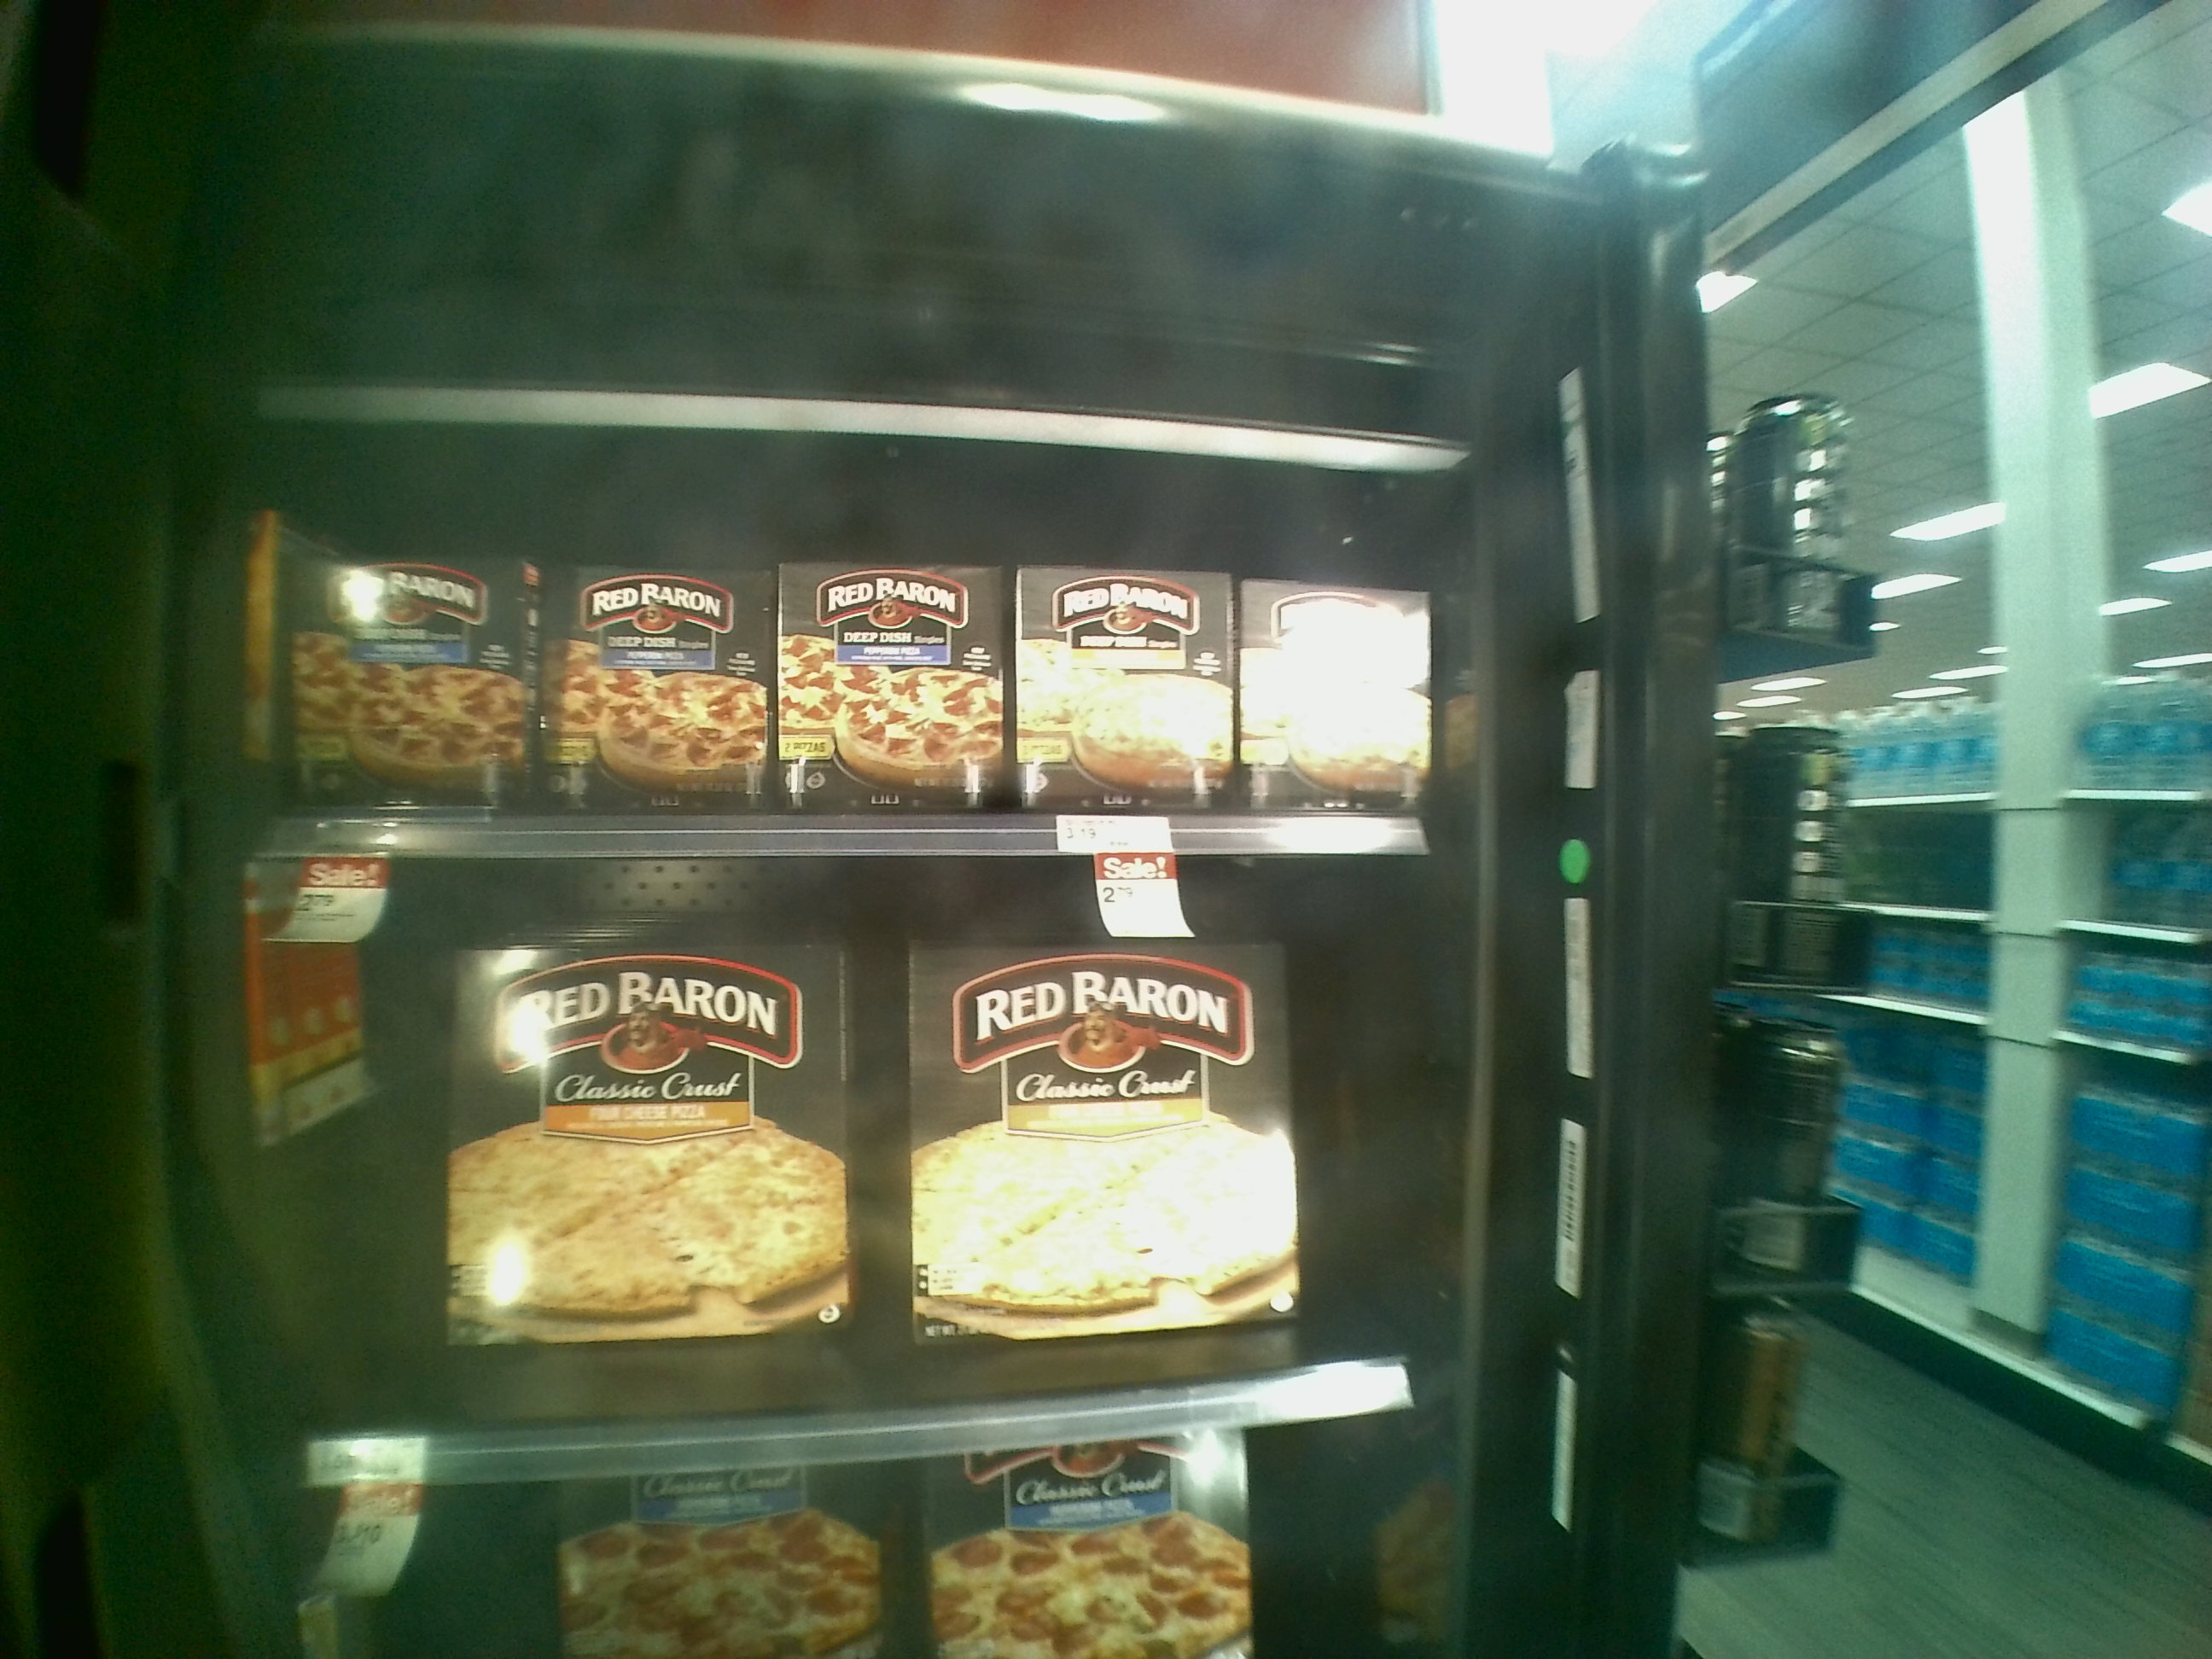shelf: (280, 857, 1437, 1469), (265, 444, 1446, 863)
